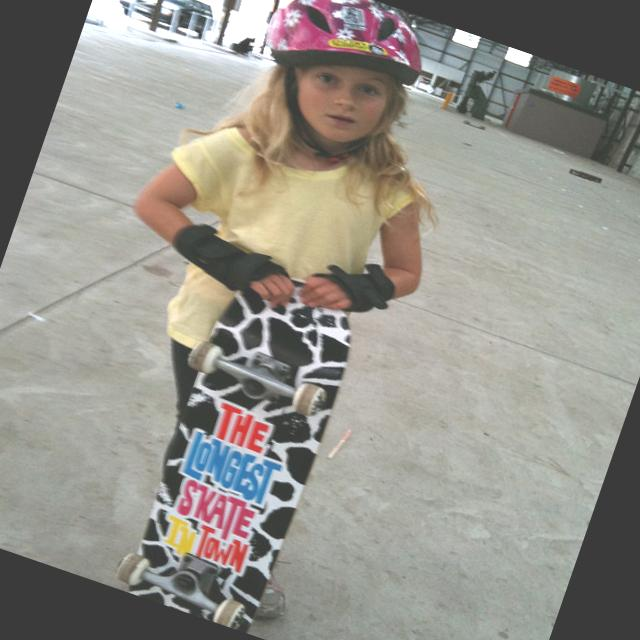Vehicle: (115, 0, 219, 42)
